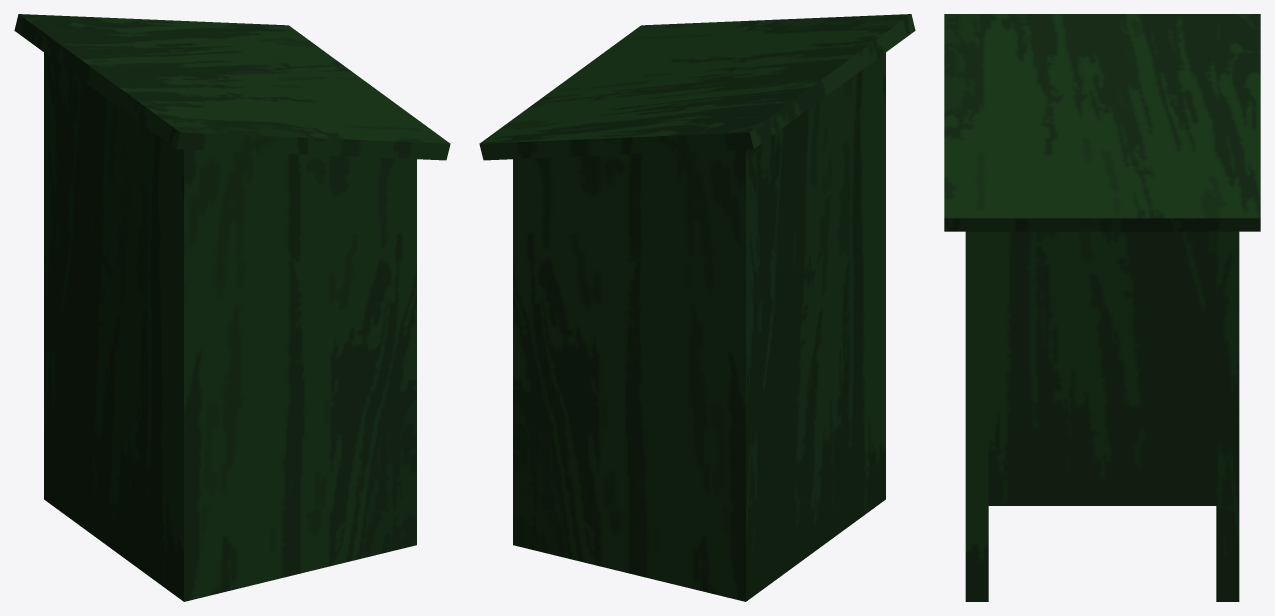
The model's file is podium.fbx.
3 views of the same model, side by side, from view 1: azimuth 30°, elevation 25°; view 2: azimuth 150°, elevation 25°; view 3: azimuth 270°, elevation 25° (orthographic). The views are drawn at different scales.
Visible parts, largest first — view 1: pCube1; view 2: pCube1; view 3: pCube1.
Part boxes in pixels (<box>): pCube1: <box>14,14,450,601</box>; pCube1: <box>479,14,915,601</box>; pCube1: <box>944,14,1260,601</box>.
Size of the model in its own units: 4.41 by 7.38 by 4.5.
Materials: 1 (1 with a texture image).
